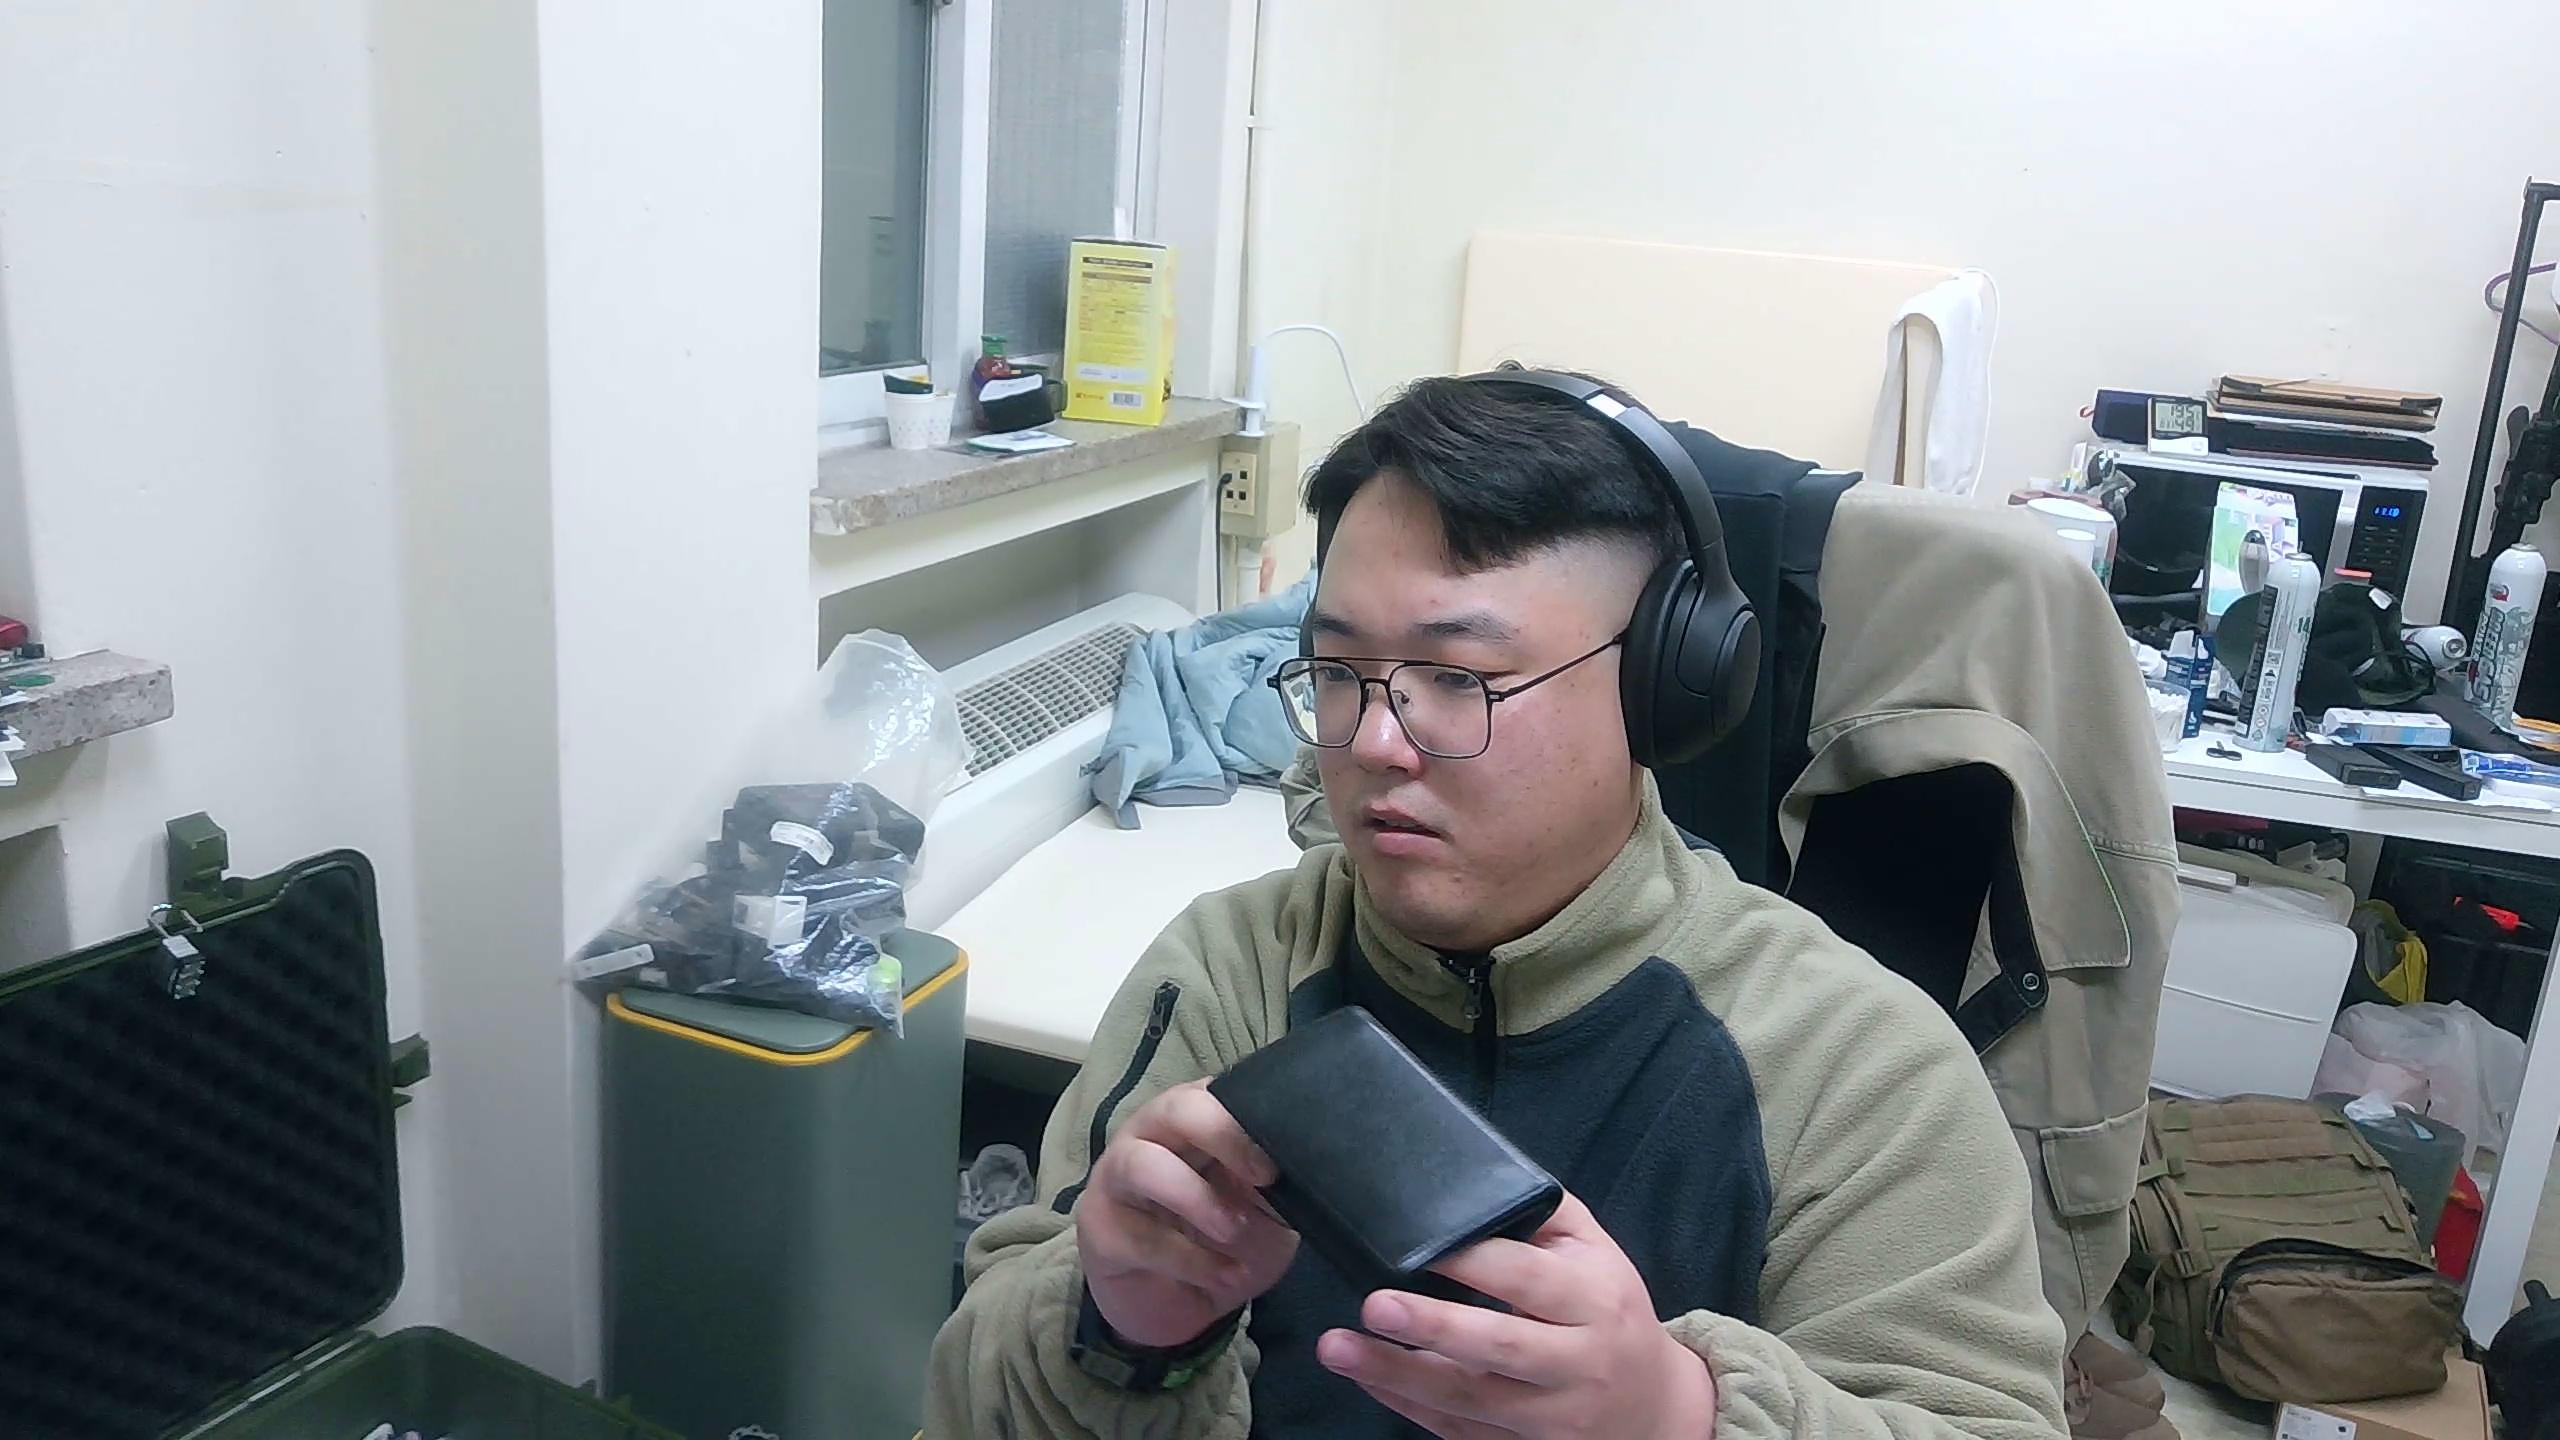earphone: (1208, 1002, 1570, 1298)
